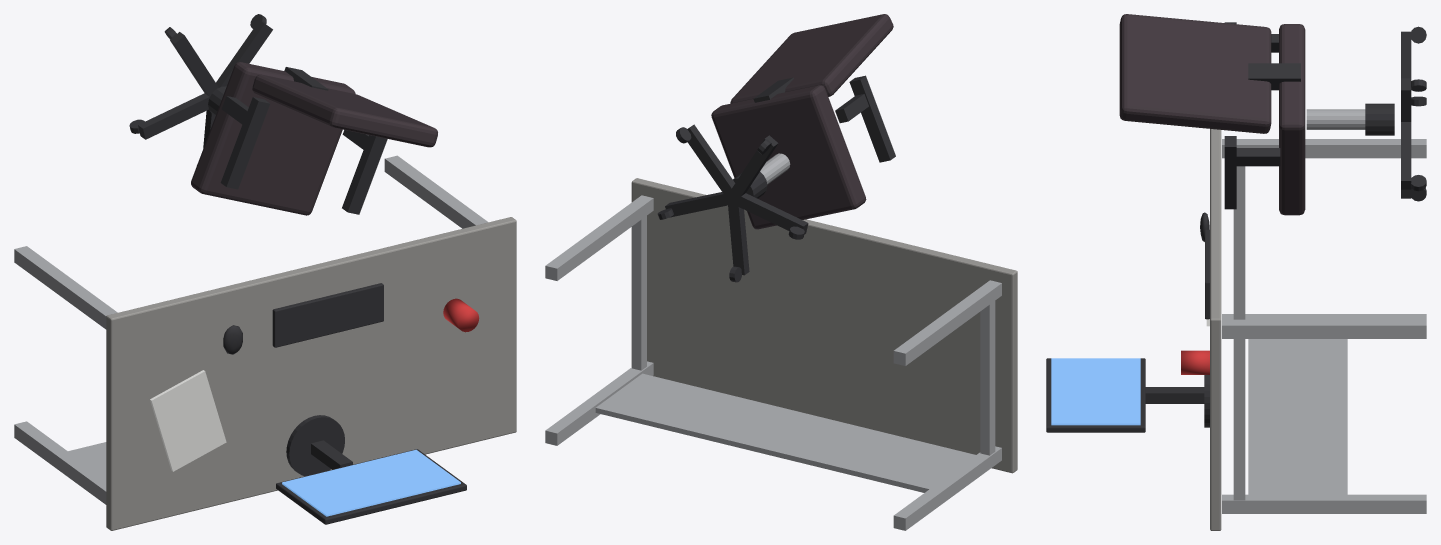
Rendered from podB_workstation0.glb.
The picture shows the model from 3 angles, left to right: view 1: azimuth 30°, elevation 25°; view 2: azimuth 150°, elevation 25°; view 3: azimuth 270°, elevation 25°; orthographic projection. The views are drawn at different scales.
Parts seen in each view (by area): view 1: podB_desk0_top, podB_chair0_seat, podB_mon0_screen, podB_chair0_back, podB_clut0_papers, podB_clut0_keyboard, podB_desk0_leg.002, podB_desk0_leg.003, podB_desk0_leg, podB_mon0_base, podB_mon0_panel, podB_chair0_arm (+7 smaller); view 2: podB_desk0_top, podB_desk0_modesty, podB_chair0_seat, podB_chair0_back, podB_desk0_leg.002, podB_desk0_leg, podB_desk0_leg.003, podB_desk0_rail.001, podB_desk0_rail, podB_desk0_leg.001, podB_chair0_arm, podB_chair0_spoke1 (+6 smaller); view 3: podB_chair0_back, podB_desk0_modesty, podB_mon0_screen, podB_desk0_top, podB_chair0_seat, podB_desk0_leg, podB_desk0_leg.001, podB_desk0_leg.002, podB_desk0_rail, podB_desk0_rail.001, podB_mon0_panel, podB_chair0_column (+11 smaller).
Part boxes in pixels (bbox=[...]): podB_desk0_top: bbox=[106, 217, 516, 530]; podB_chair0_seat: bbox=[191, 62, 355, 215]; podB_mon0_screen: bbox=[282, 449, 460, 516]; podB_chair0_back: bbox=[252, 74, 437, 147]; podB_clut0_papers: bbox=[150, 370, 226, 471]; podB_clut0_keyboard: bbox=[272, 283, 383, 347]; podB_desk0_leg.002: bbox=[14, 246, 117, 329]; podB_desk0_leg.003: bbox=[14, 421, 106, 504]; podB_desk0_leg: bbox=[384, 155, 488, 228]; podB_mon0_base: bbox=[286, 415, 344, 476]; podB_mon0_panel: bbox=[276, 449, 466, 524]; podB_chair0_arm: bbox=[220, 97, 269, 189]; podB_desk0_top: bbox=[631, 178, 1017, 473]; podB_desk0_modesty: bbox=[595, 373, 975, 492]; podB_chair0_seat: bbox=[711, 85, 866, 229]; podB_chair0_back: bbox=[730, 14, 893, 103]; podB_desk0_leg.002: bbox=[893, 280, 1001, 365]; podB_desk0_leg: bbox=[545, 195, 653, 280]; podB_desk0_leg.003: bbox=[893, 446, 1001, 530]; podB_desk0_rail.001: bbox=[980, 301, 995, 455]; podB_desk0_rail: bbox=[632, 216, 646, 370]; podB_desk0_leg.001: bbox=[545, 361, 653, 445]; podB_chair0_arm: bbox=[849, 75, 895, 162]; podB_chair0_spoke1: bbox=[687, 124, 736, 200]; podB_chair0_back: bbox=[1119, 14, 1271, 133]; podB_desk0_modesty: bbox=[1248, 339, 1347, 494]; podB_mon0_screen: bbox=[1051, 358, 1140, 425]; podB_desk0_top: bbox=[1210, 129, 1221, 530]; podB_chair0_seat: bbox=[1279, 24, 1305, 215]; podB_desk0_leg: bbox=[1222, 319, 1426, 338]; podB_desk0_leg.001: bbox=[1222, 494, 1426, 513]; podB_desk0_leg.002: bbox=[1222, 139, 1426, 158]; podB_desk0_rail: bbox=[1233, 339, 1245, 500]; podB_desk0_rail.001: bbox=[1233, 166, 1245, 319]; podB_mon0_panel: bbox=[1046, 358, 1145, 432]; podB_chair0_column: bbox=[1306, 109, 1365, 129].
Size of the model in its own units: 1.6 by 1.54 by 1.3.
